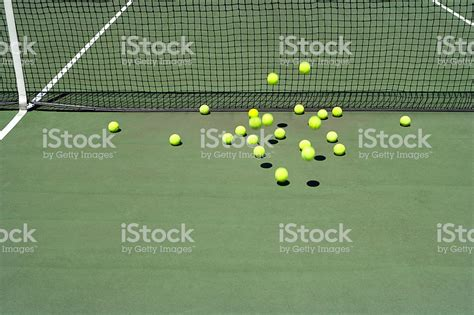tennis_ball: (301, 146, 316, 161), (275, 167, 288, 183), (298, 61, 311, 75), (308, 115, 321, 129), (333, 143, 346, 156), (222, 132, 235, 145), (253, 145, 265, 159), (262, 112, 273, 127), (326, 130, 338, 143), (274, 127, 286, 140), (267, 73, 279, 85), (249, 117, 261, 129), (247, 134, 258, 147), (169, 134, 181, 145), (400, 115, 411, 127), (331, 106, 343, 117), (293, 103, 305, 114), (299, 139, 311, 150), (318, 108, 328, 121), (108, 121, 119, 132), (235, 125, 246, 136), (248, 108, 259, 118), (199, 104, 209, 114)
